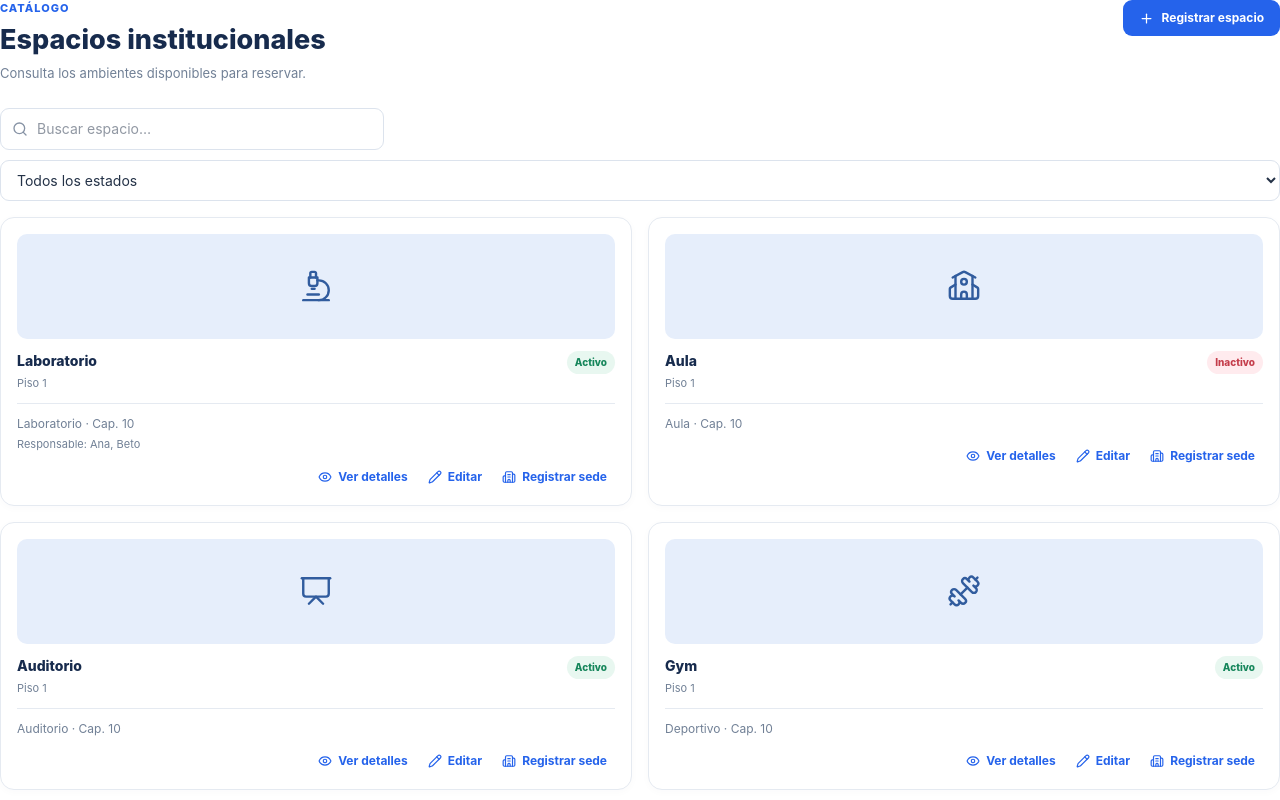
Scenario: SpacesPage · crear y editar › crea un espacio
The image size is (1280, 800).
Expected: the heading "Laboratorio" is shown, [17,351,97,371]
Click the button "Registrar espacio" at x=1201, y=18, box [1122,0,1279,36]
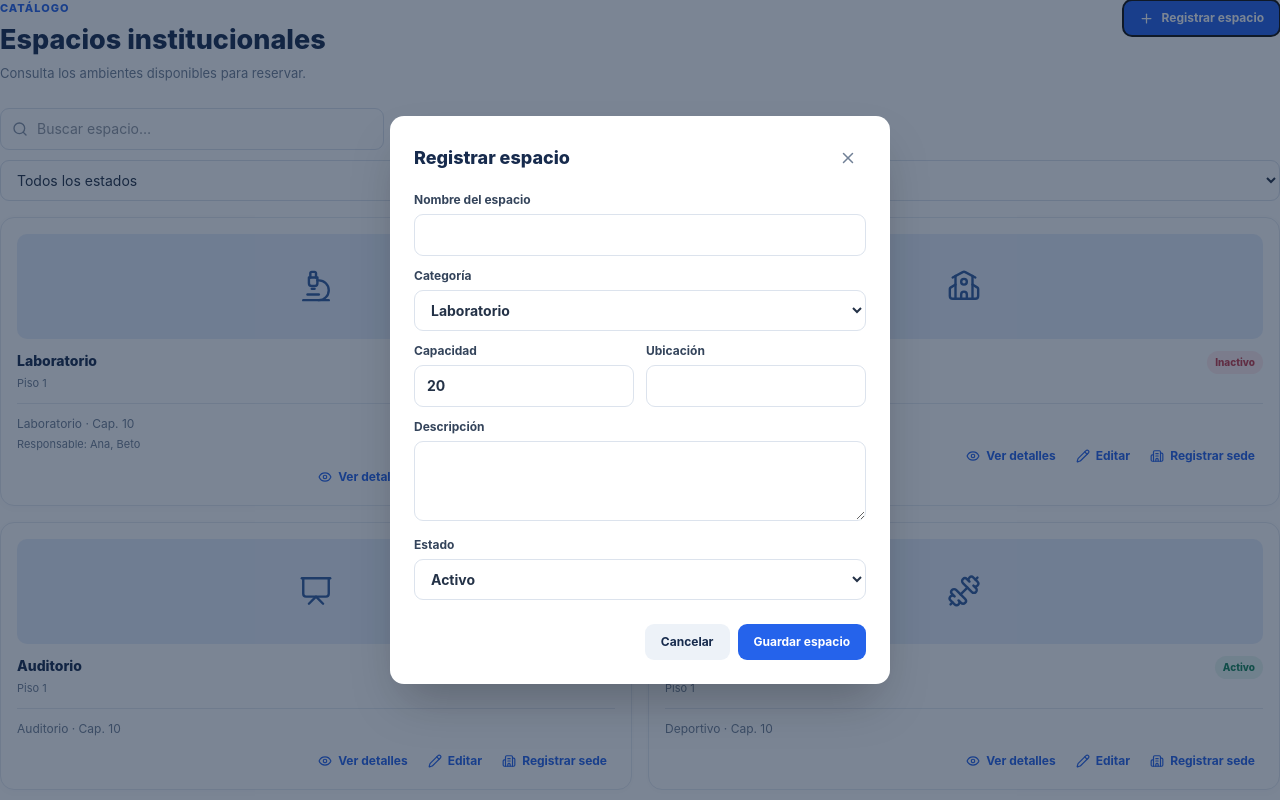
Type "Nuevo" into the field labelled "Nombre del espacio" at x=640, y=235, box [414,214,866,256]
Select "Deportivo" in the dropdown labelled "Categoría" at x=640, y=310, box [414,290,866,331]
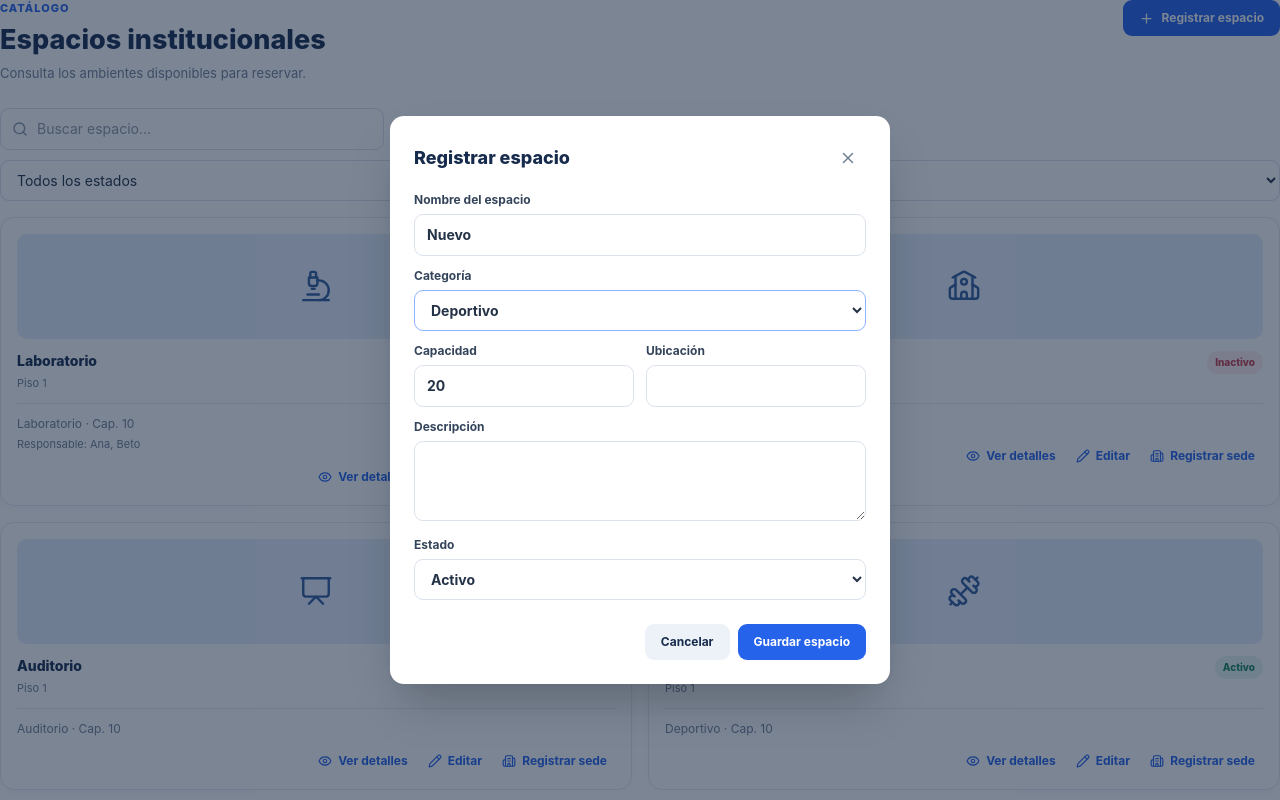
Replace the text in the number field labelled "Capacidad" with "33" at x=524, y=386, box [414,365,634,407]
Type "Sótano" into the field labelled "Ubicación" at x=756, y=386, box [646,365,866,407]
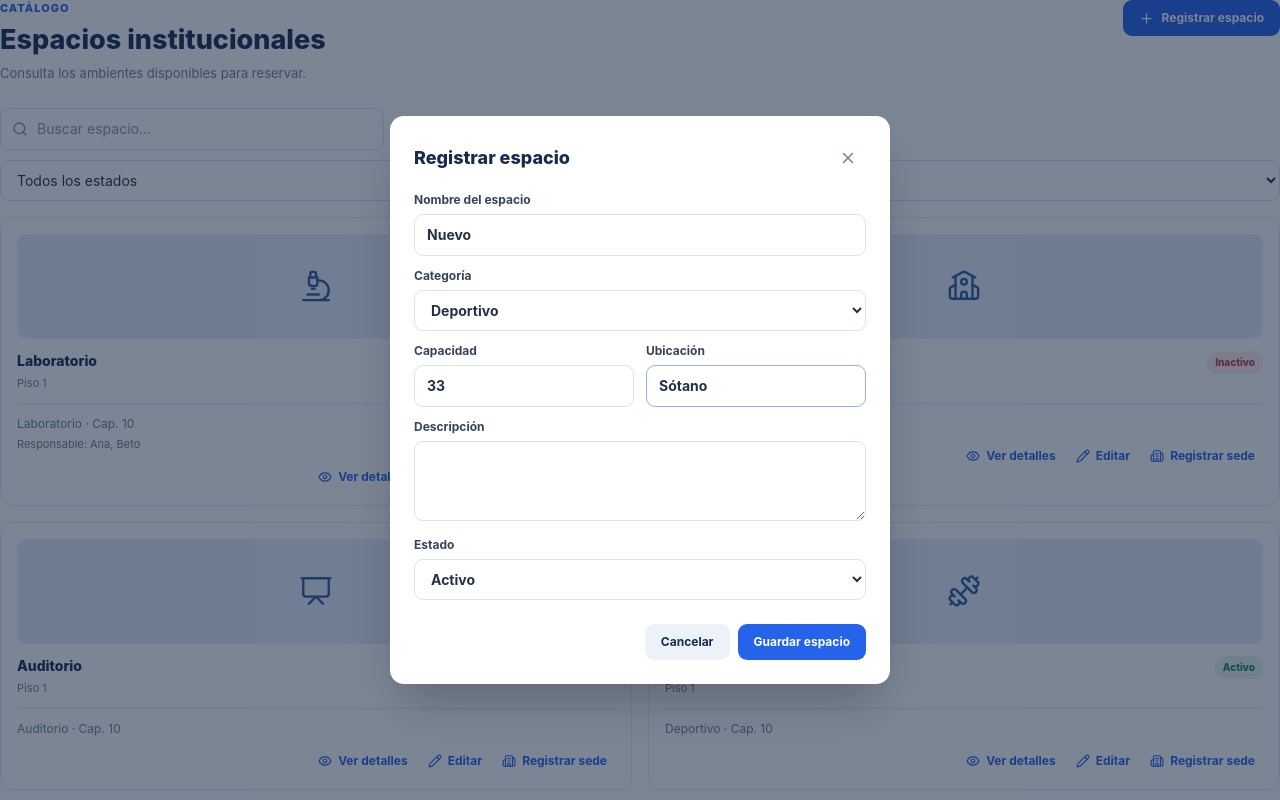
Type "Desc" into the text box labelled "Descripción" at x=640, y=481, box [414,441,866,521]
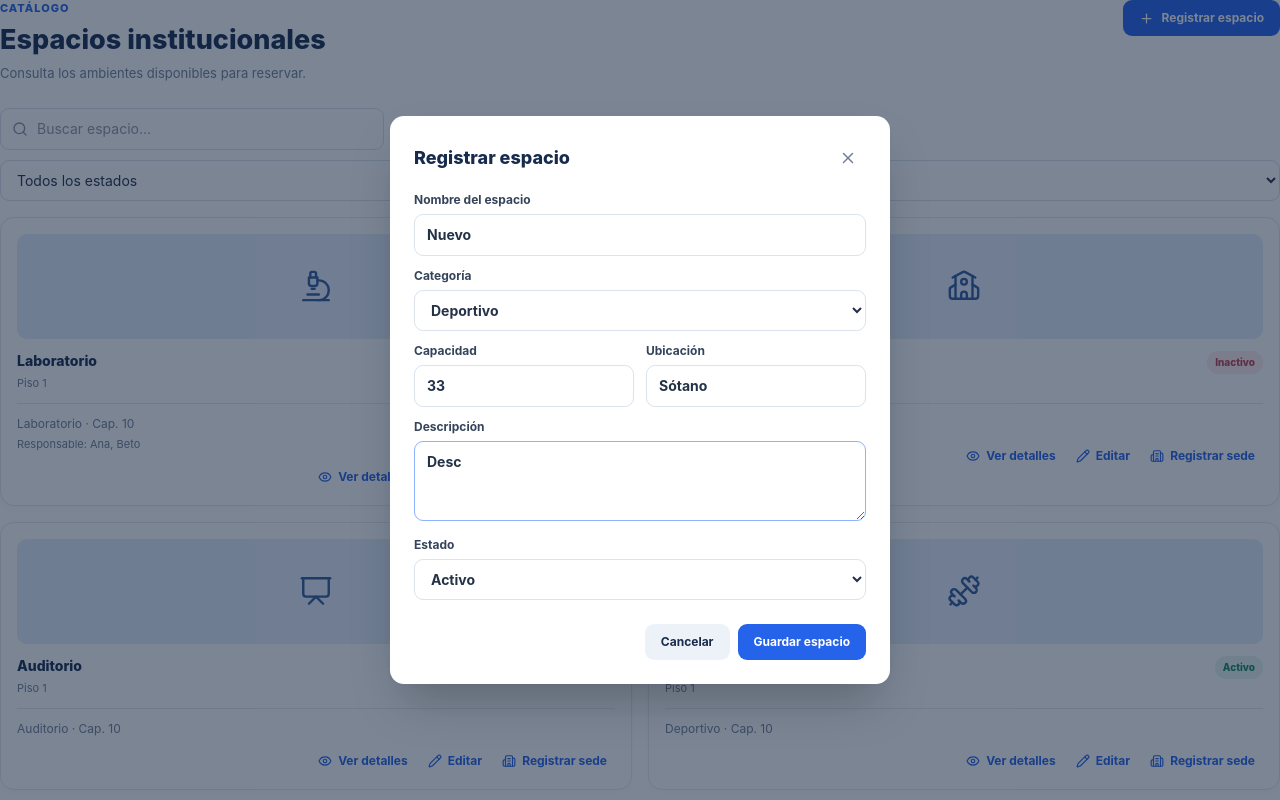
Select "Inactivo" in the dropdown labelled "Estado" at x=640, y=580, box [414,559,866,600]
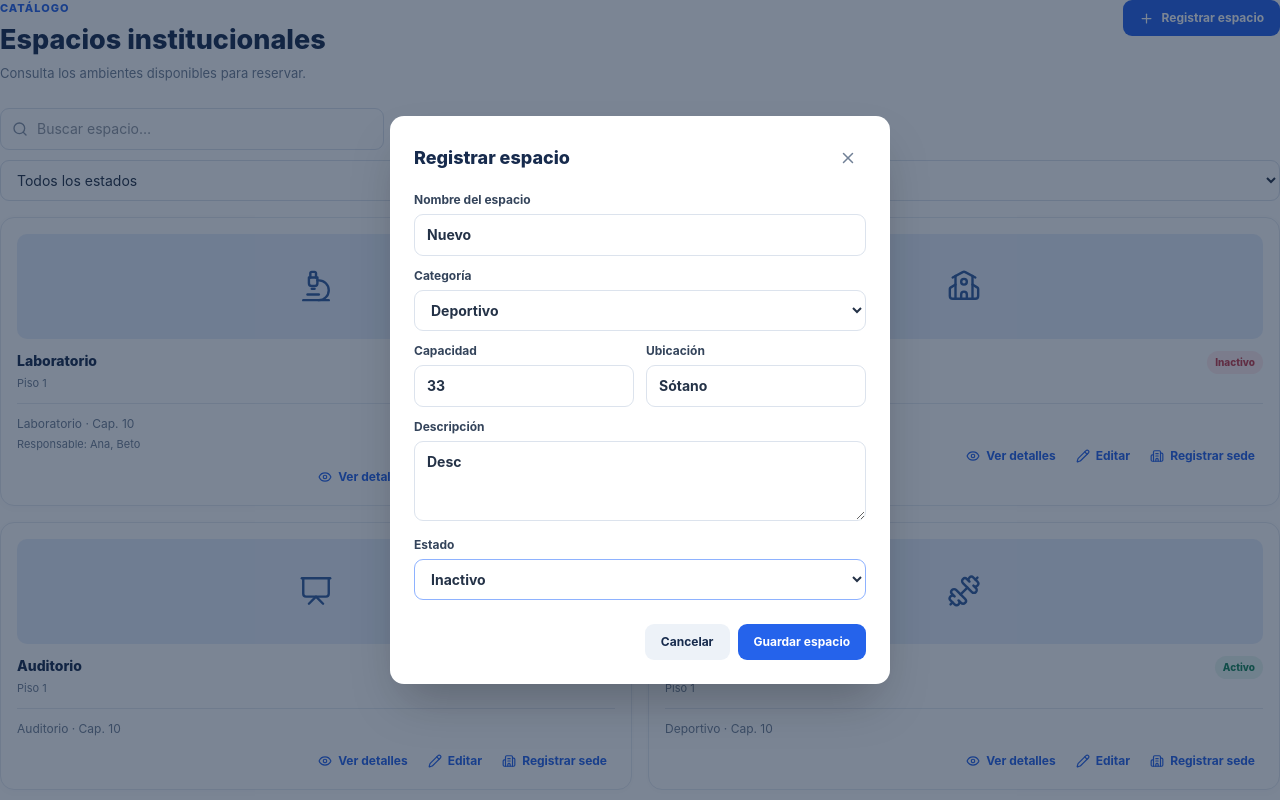
Click the button "Guardar espacio" at x=802, y=642, box [738,624,866,660]
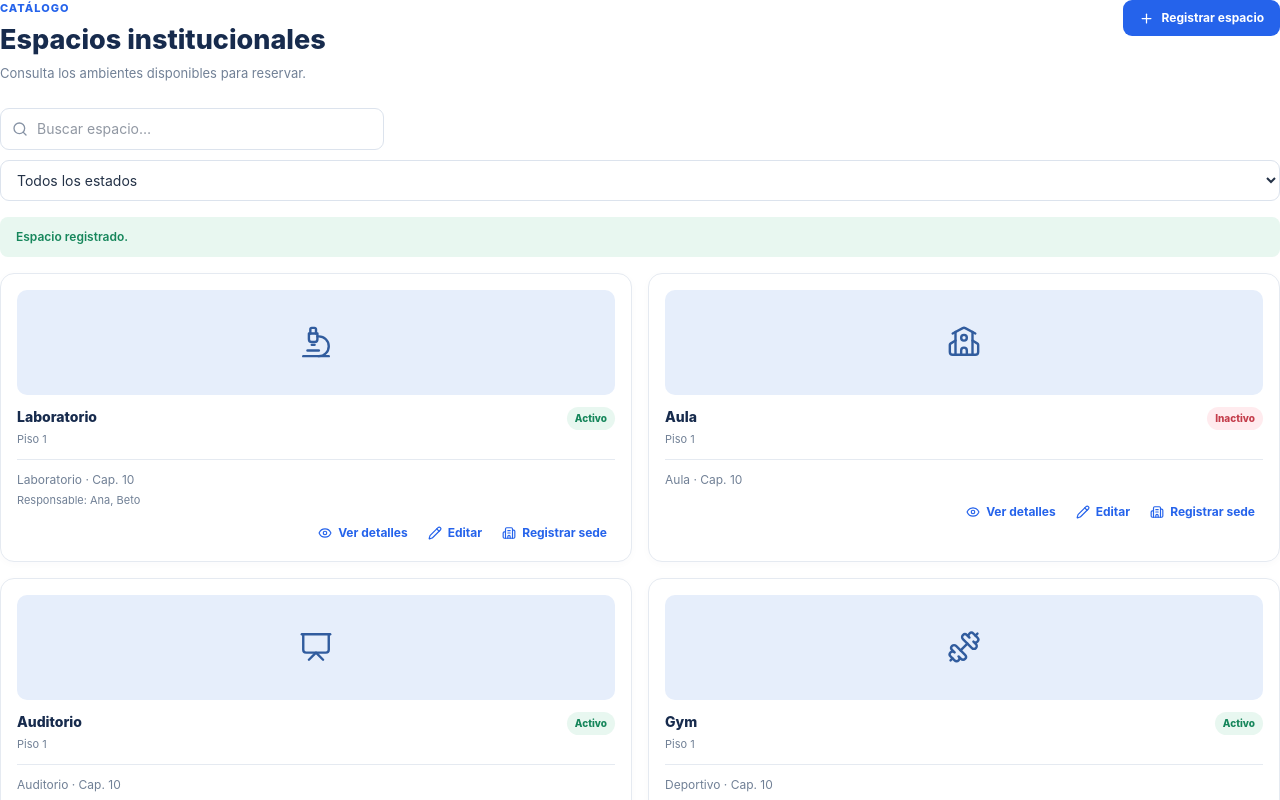
Now the message reads "Espacio registrado.", box [16,229,128,244]
